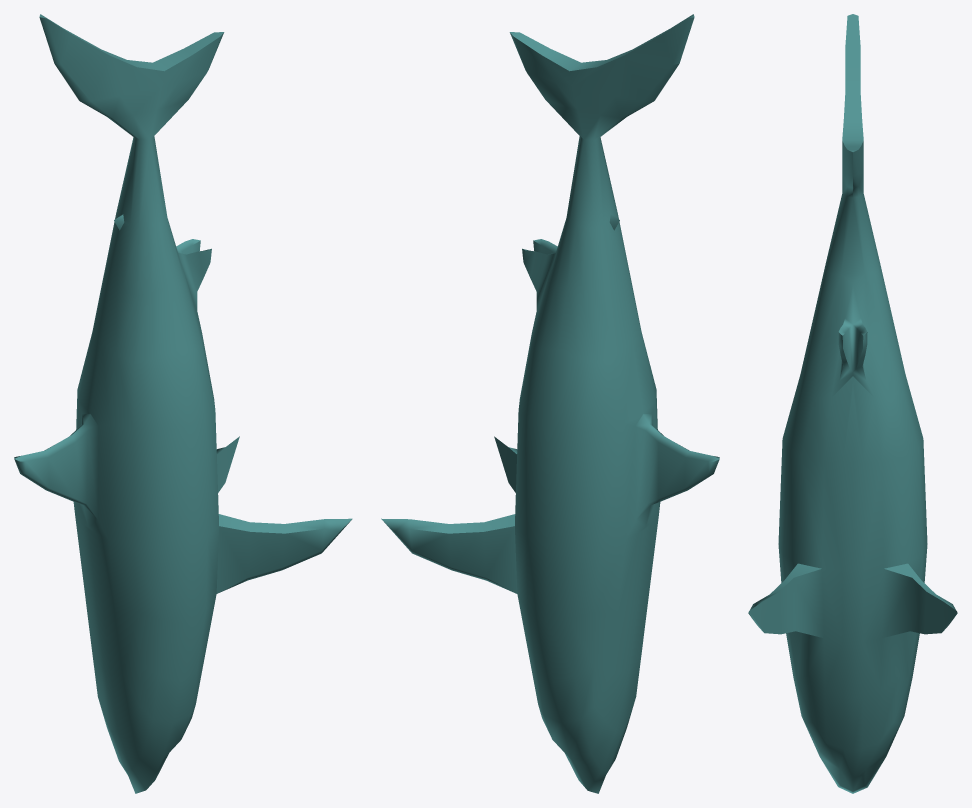
Rendered from Shark.fbx.
The picture shows the model from 3 angles, left to right: view 1: azimuth 30°, elevation 25°; view 2: azimuth 150°, elevation 25°; view 3: azimuth 270°, elevation 25°; orthographic projection. The views are drawn at different scales.
Parts seen in each view (by area): view 1: A1; view 2: A1; view 3: A1.
Boxes of the visible parts, left/top/right/bottom form: A1: left=14, top=14, right=352, bottom=793; A1: left=381, top=14, right=719, bottom=793; A1: left=748, top=14, right=957, bottom=793.
Bounding box in the file's own units: 100 × 272 × 70.06.
